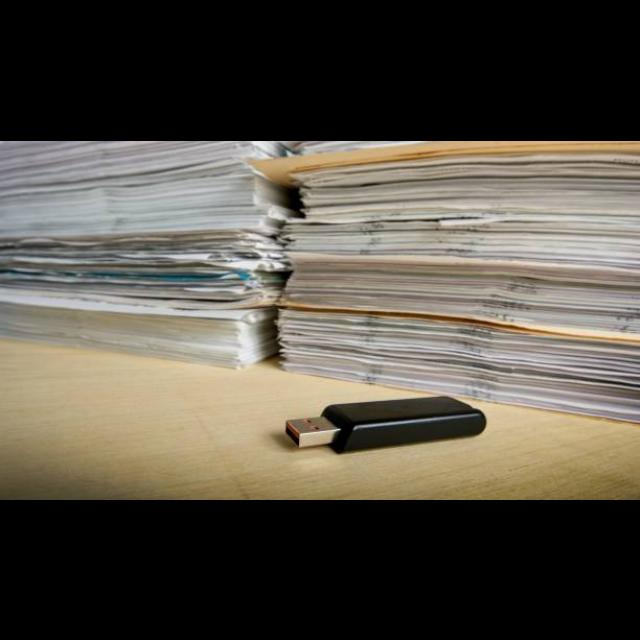USB-Flash-Drive: (284, 396, 487, 456)
